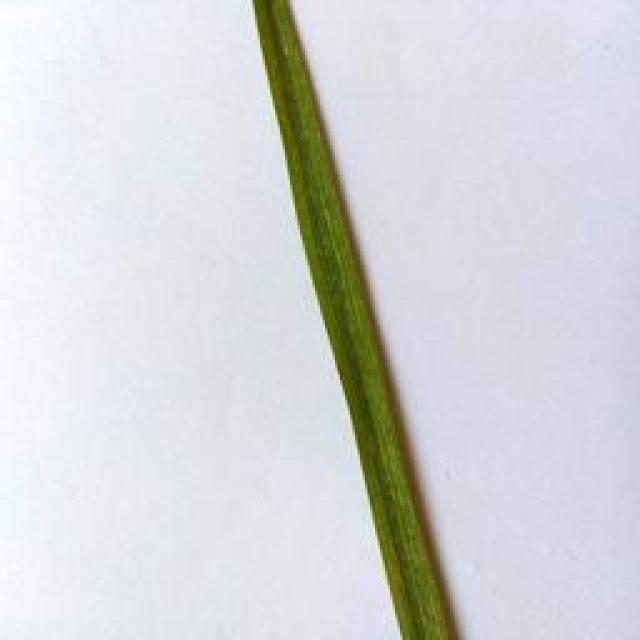Healthy-Plant: (248, 0, 457, 640)
